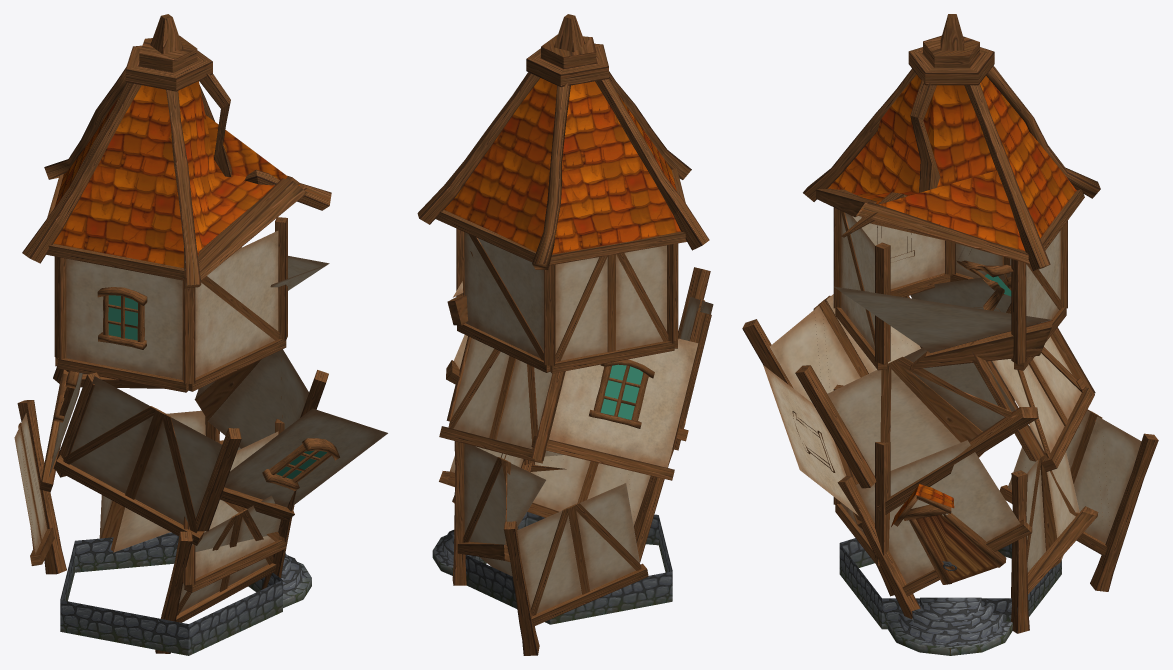
The model's file is house4_after.fbx.
3 views of the same model, side by side, from view 1: azimuth 30°, elevation 25°; view 2: azimuth 150°, elevation 25°; view 3: azimuth 270°, elevation 25° (orthographic). The views are drawn at different scales.
Parts seen in each view (by area): view 1: WCorner1.131, WallTile1.049, WallTile1.053, RockTileBottom.106, WallTile1.051, WallTile1.047, WallWindow1.054, WallTile1.039, WallTile1.043, WallTile1.040, WallTile1.042, WallTile1.050 (+11 smaller); view 2: WCorner1.131, WallTile1.050, WallTile1.054, WallTile1.042, WallTile1.048, WallTile1.052, WallTile1.040, RockTileBottom.106, WallTile1.039, WCorner1.130, WCorner1.127, PTop2.067 (+11 smaller); view 3: WCorner1.131, WallWindow1.054, WallWindow1.052, WallWindow1.055, WallTile1.042, WallTile1.049, WallTile1.048, Cylinder.001, WallTile1.040, WallTile1.047, WallTile1.053, WallTile1.051 (+17 smaller).
Boxes of the visible parts, x1,y1,x2,y2 form: WCorner1.131: [22, 14, 331, 288]; WallTile1.049: [53, 376, 221, 545]; WallTile1.053: [57, 258, 188, 392]; RockTileBottom.106: [60, 532, 282, 655]; WallTile1.051: [188, 231, 286, 391]; WallTile1.047: [220, 408, 387, 521]; WallWindow1.054: [194, 349, 308, 448]; WallTile1.039: [175, 495, 280, 622]; WallTile1.043: [184, 431, 286, 592]; WallTile1.040: [99, 410, 205, 552]; WallTile1.042: [14, 413, 54, 565]; WallTile1.050: [39, 369, 82, 491]; WCorner1.131: [417, 14, 709, 269]; WallTile1.050: [531, 338, 698, 480]; WallTile1.054: [550, 245, 674, 373]; WallTile1.042: [517, 483, 648, 626]; WallTile1.048: [439, 338, 551, 463]; WallTile1.052: [457, 232, 550, 372]; WallTile1.040: [457, 444, 545, 576]; RockTileBottom.106: [465, 512, 672, 624]; WallTile1.039: [527, 455, 650, 526]; WCorner1.130: [503, 521, 539, 655]; WCorner1.127: [452, 441, 466, 585]; PTop2.067: [672, 311, 711, 450]; WCorner1.131: [803, 14, 1100, 270]; WallWindow1.054: [827, 348, 1038, 514]; WallWindow1.052: [856, 440, 1032, 596]; WallWindow1.055: [834, 260, 1052, 369]; WallTile1.042: [999, 409, 1141, 555]; WallTile1.049: [769, 294, 920, 403]; WallTile1.048: [992, 336, 1094, 471]; Cylinder.001: [888, 597, 1012, 655]; WallTile1.040: [1026, 451, 1098, 594]; WallTile1.047: [763, 365, 862, 528]; WallTile1.053: [852, 216, 950, 297]; WallTile1.051: [835, 211, 887, 370].
Size of the model in its own units: 102 by 207 by 131.
Materials: 3 (2 with a texture image).
